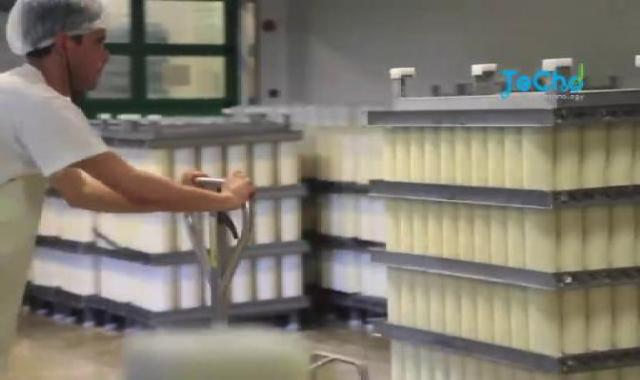hairnet: (5, 0, 116, 62)
